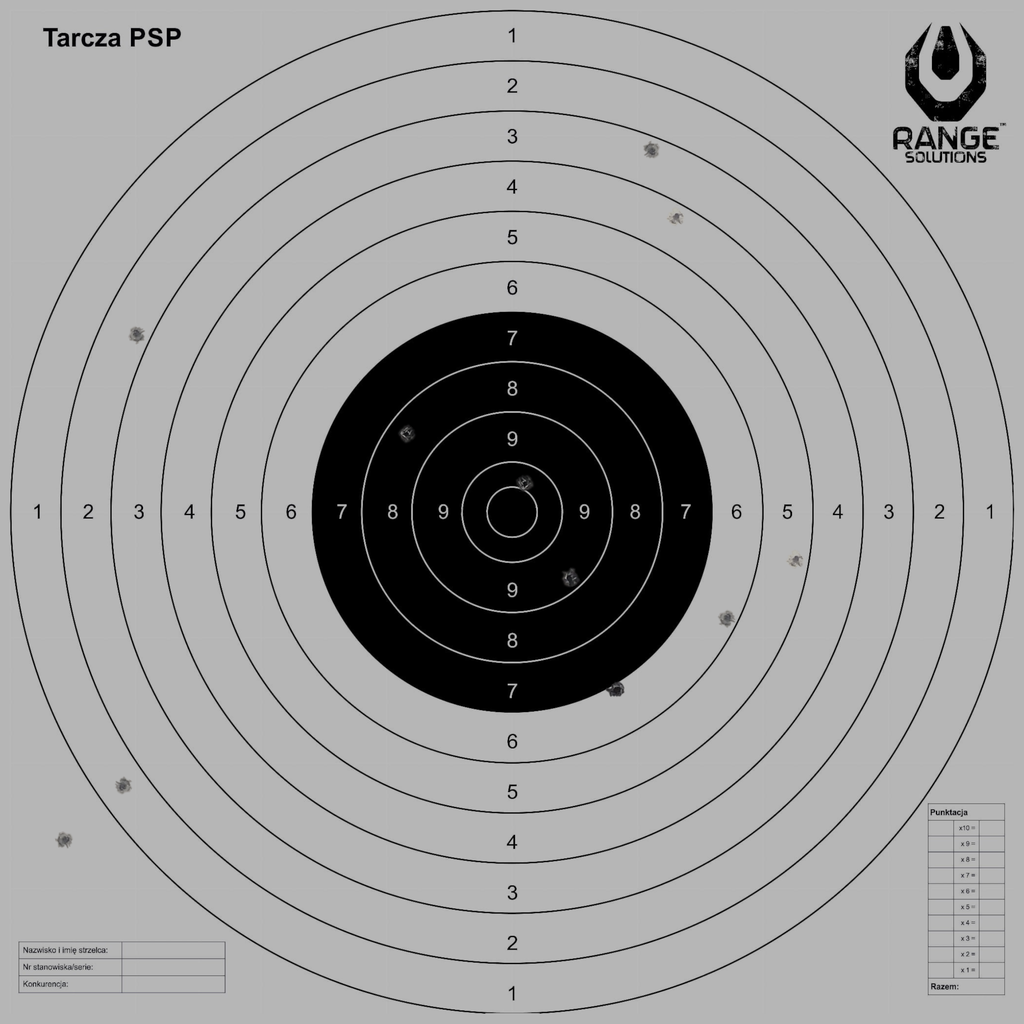0 punktow: (56, 831, 74, 849)
1 punkt: (114, 777, 132, 796)
10 punktow: (516, 475, 534, 493)
2 punkty: (127, 325, 146, 343)
3 punkty: (643, 142, 661, 160)
4 punkty: (667, 208, 686, 226)
5 punktow: (787, 550, 805, 569)
6 punktow: (718, 609, 736, 627)
7 punktow: (607, 681, 626, 699)
8 punktow: (397, 425, 415, 443)
9 punktow: (560, 569, 579, 587)
